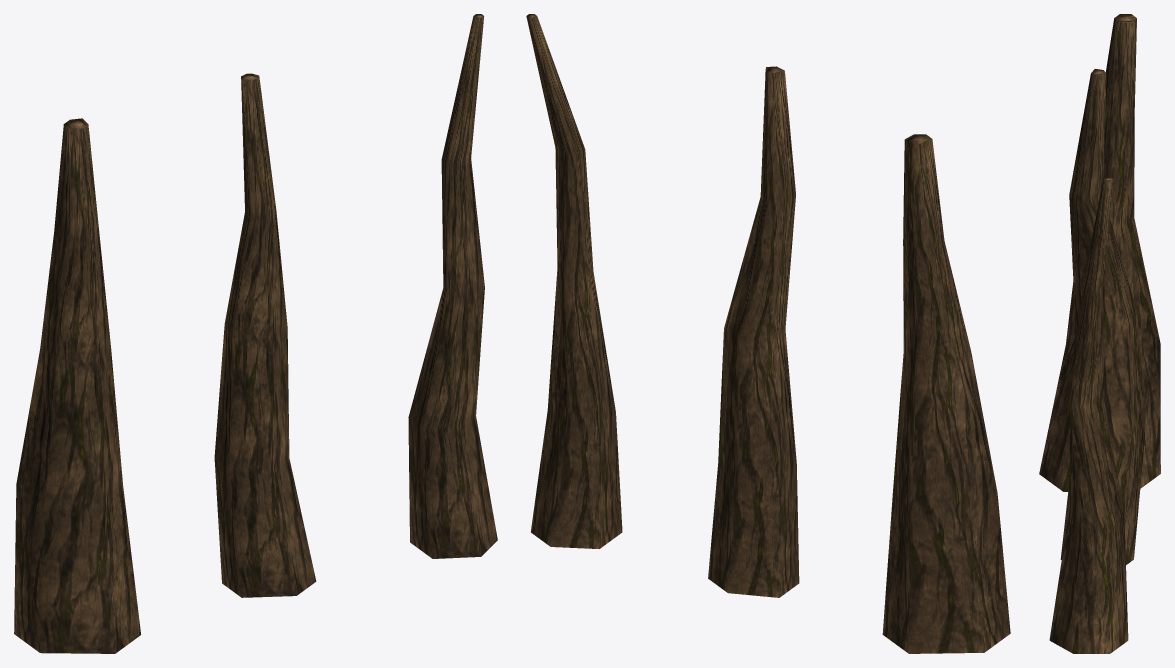
The model's file is Trunks.fbx.
3 views of the same model, side by side, from view 1: azimuth 30°, elevation 25°; view 2: azimuth 150°, elevation 25°; view 3: azimuth 270°, elevation 25° (orthographic). The views are drawn at different scales.
Parts seen in each view (by area): view 1: Trunk_1, Trunk_2, Trunk_3; view 2: Trunk_1, Trunk_2, Trunk_3; view 3: Trunk_3, Trunk_2, Trunk_1.
Part boxes in pixels (x1,y1,x2,y2): Trunk_1: [14, 118, 140, 653]; Trunk_2: [214, 73, 316, 597]; Trunk_3: [408, 14, 497, 558]; Trunk_1: [882, 134, 1010, 653]; Trunk_2: [708, 66, 799, 597]; Trunk_3: [526, 14, 622, 548]; Trunk_3: [1049, 177, 1128, 653]; Trunk_2: [1060, 69, 1144, 564]; Trunk_1: [1039, 14, 1160, 491].
Bounding box in the file's own units: 19.79 × 21.07 × 4.87.
